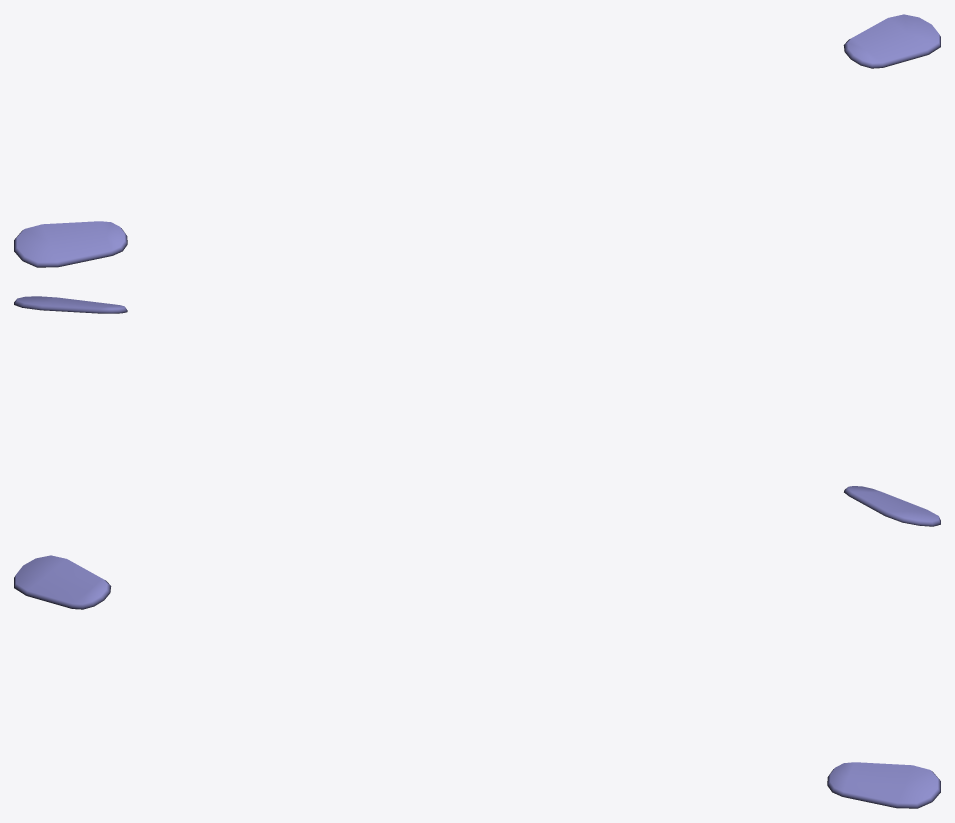
File: AdamLZ_E36_Hood_Detail.fbx
The picture shows the model from 3 angles, top to bottom: view 1: azimuth 30°, elevation 25°; view 2: azimuth 150°, elevation 25°; view 3: azimuth 330°, elevation 25°; orthographic projection.
Visible parts, largest first — view 1: AdamLZ_E36_Hood_Detail; view 2: AdamLZ_E36_Hood_Detail; view 3: AdamLZ_E36_Hood_Detail.
Boxes of the visible parts, x1,y1,x2,y2 form: AdamLZ_E36_Hood_Detail: (14, 14, 940, 267); AdamLZ_E36_Hood_Detail: (14, 296, 940, 526); AdamLZ_E36_Hood_Detail: (14, 555, 940, 808).
Bounding box in the file's own units: 117 × 2.35 × 7.82.
